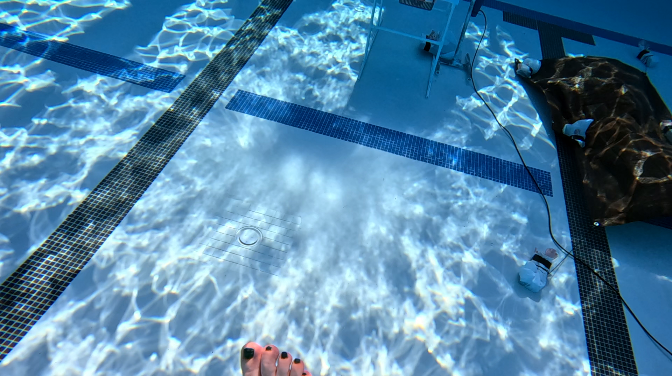sandbag: (511, 51, 671, 230)
